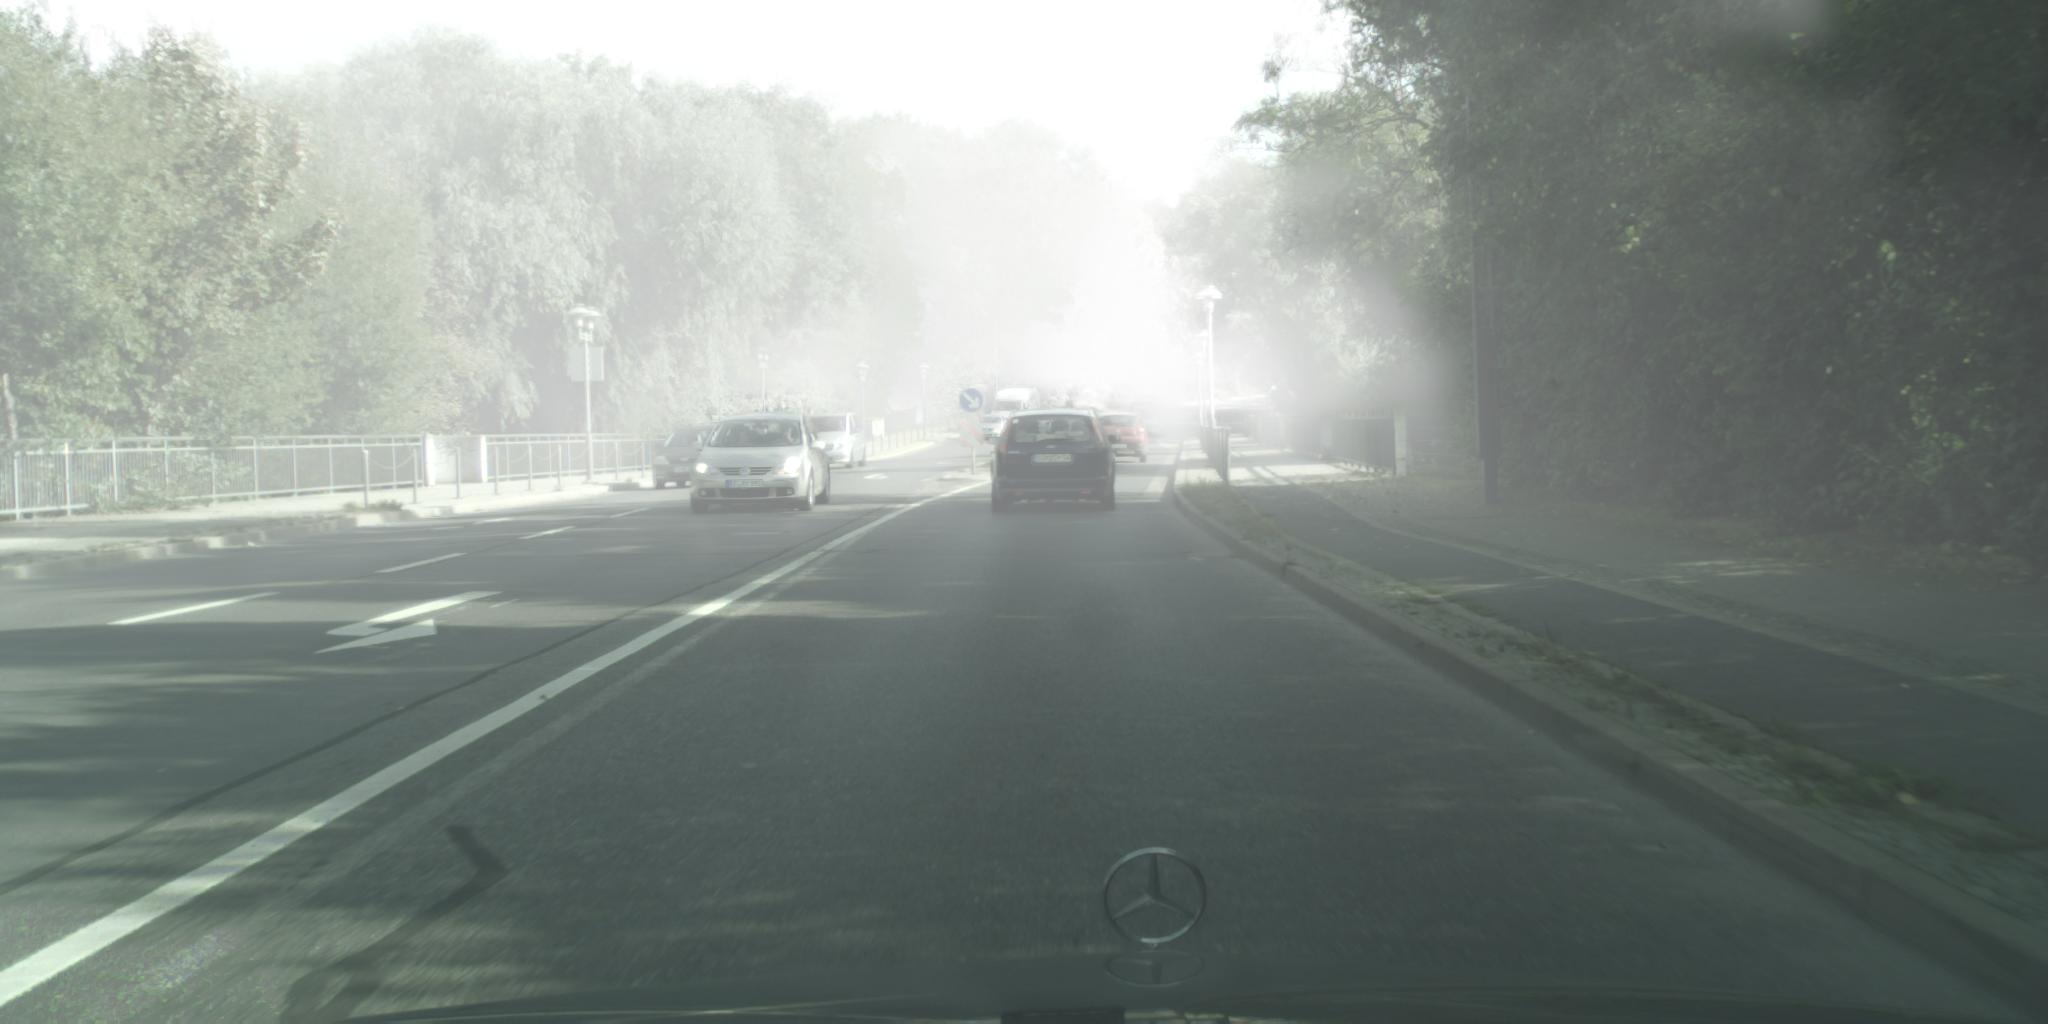car: (690, 413, 832, 516), (989, 409, 1123, 515), (652, 422, 730, 491), (803, 413, 869, 469), (1097, 413, 1155, 464), (991, 385, 1044, 428), (974, 415, 1015, 443), (1130, 394, 1165, 417), (1138, 415, 1166, 436)
truck: (991, 385, 1044, 428)
